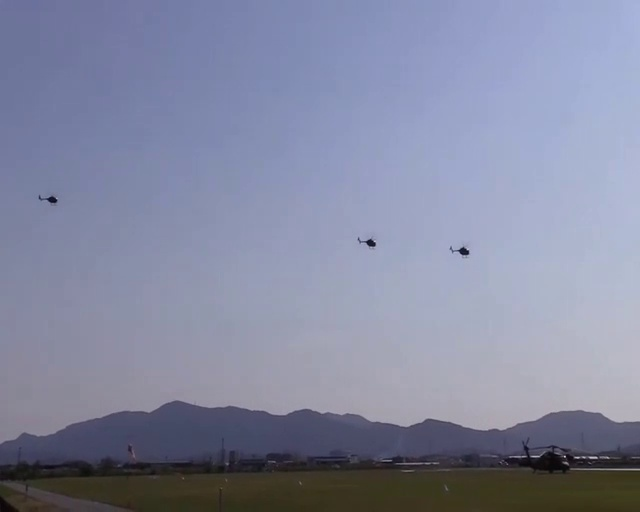HELICOPTER: (448, 243, 470, 257)
